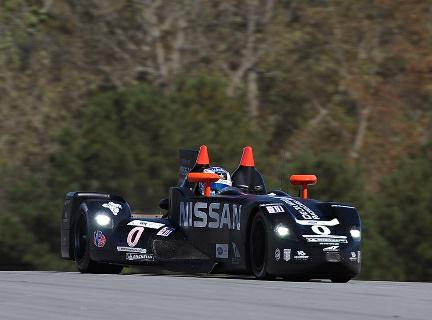日产-DeltaWing: (54, 143, 371, 293)
